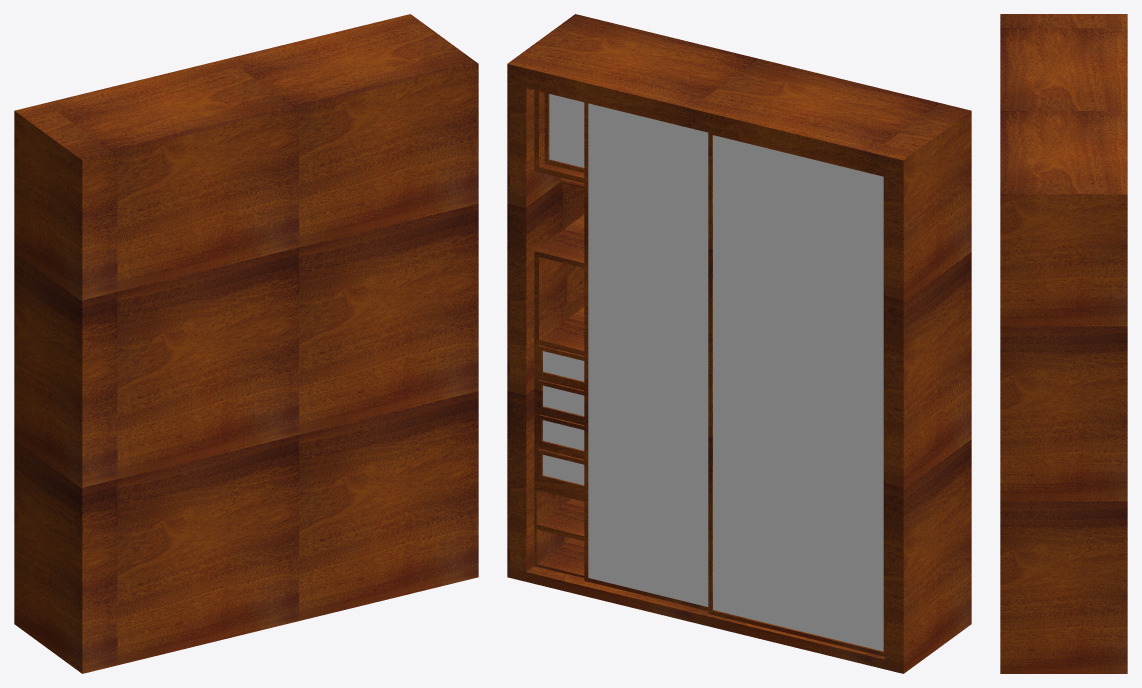
3 renders of one model, left to right at view 1: azimuth 30°, elevation 25°; view 2: azimuth 150°, elevation 25°; view 3: azimuth 270°, elevation 25°, orthographic. The views are drawn at different scales.
Parts seen in each view (by area): view 1: mesh1_mesh1-geometry; view 2: mesh1_mesh1-geometry; view 3: mesh1_mesh1-geometry.
Part boxes in pixels (bbox=[...]): mesh1_mesh1-geometry: bbox=[14, 14, 478, 673]; mesh1_mesh1-geometry: bbox=[507, 14, 971, 673]; mesh1_mesh1-geometry: bbox=[1000, 14, 1127, 673].
Size of the model in its own units: 0.6176 by 0.7647 by 0.1838.
